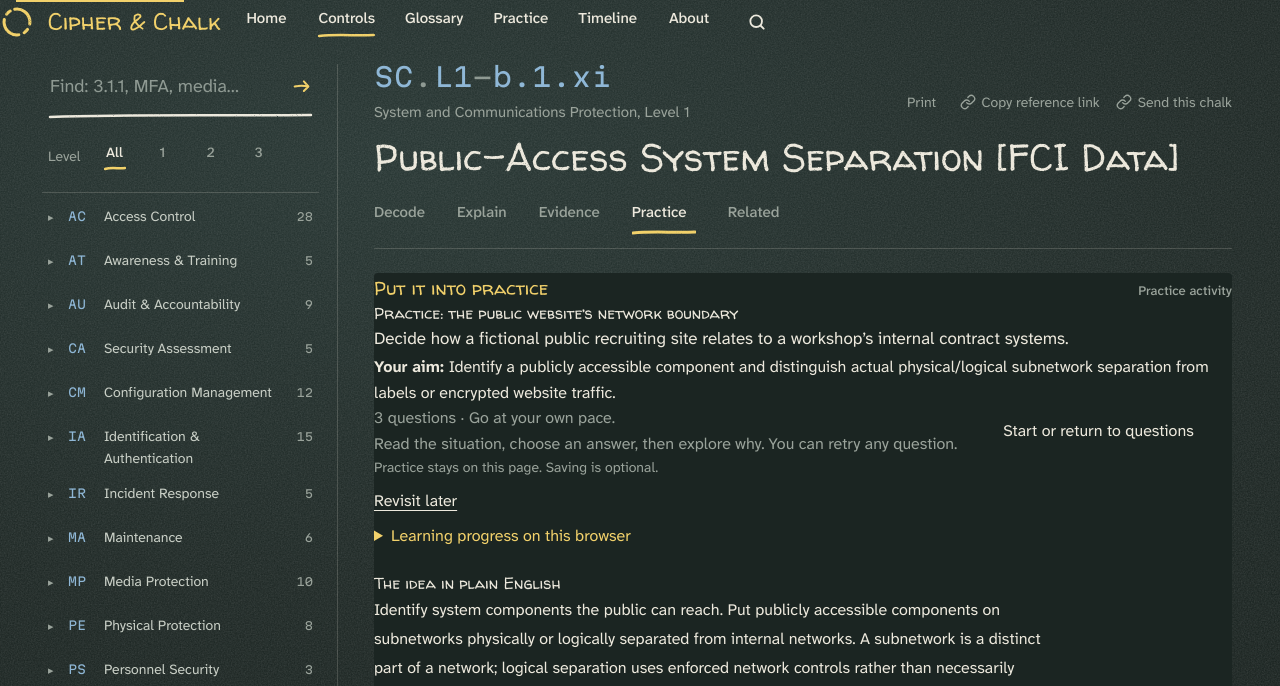
Test: Control views › offers its views and keeps the practice on its own view for level-one-public-system-separation
The width and height of the screenshot is (1280, 686).
Expected: the heading "Public-Access System Separation [FCI Data]" is shown, [374,138,1232,176]
Expected: the heading "Practice: the public website’s network boundary" is shown, [374,303,738,323]
Step 1. Click the link "Decode" → x=399, y=212, box [374,202,425,222]
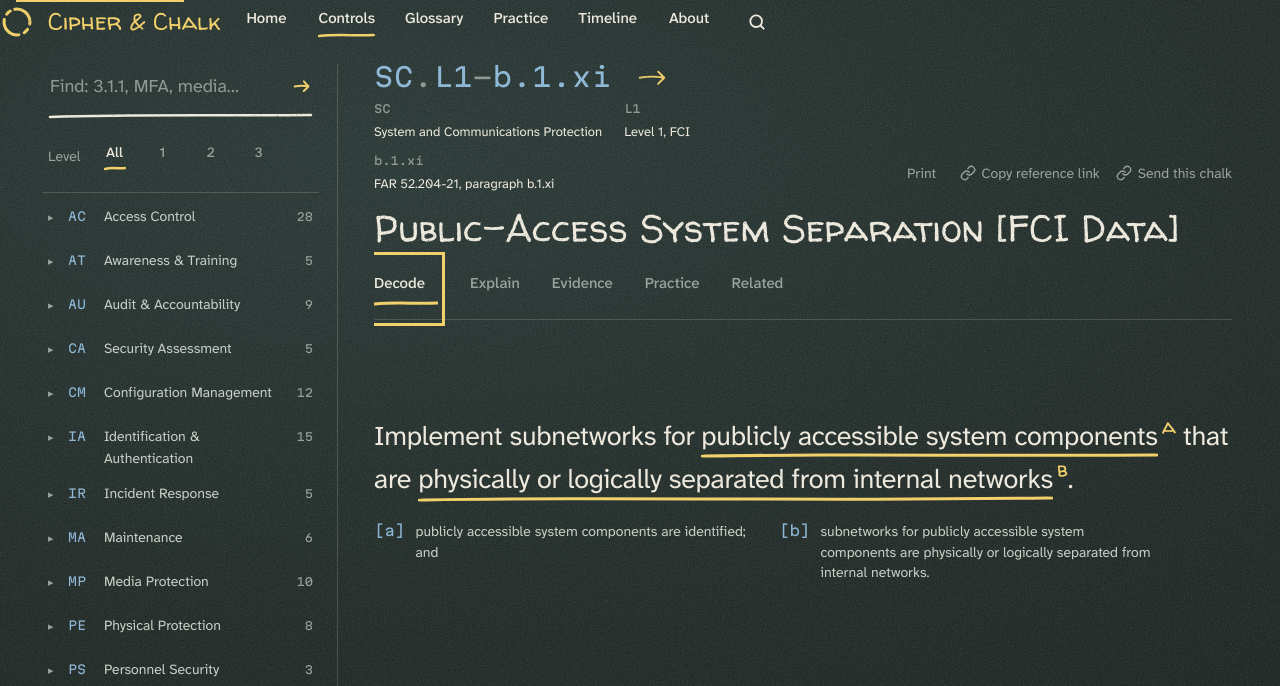
Now the heading "Practice: the public website’s network boundary" is gone
